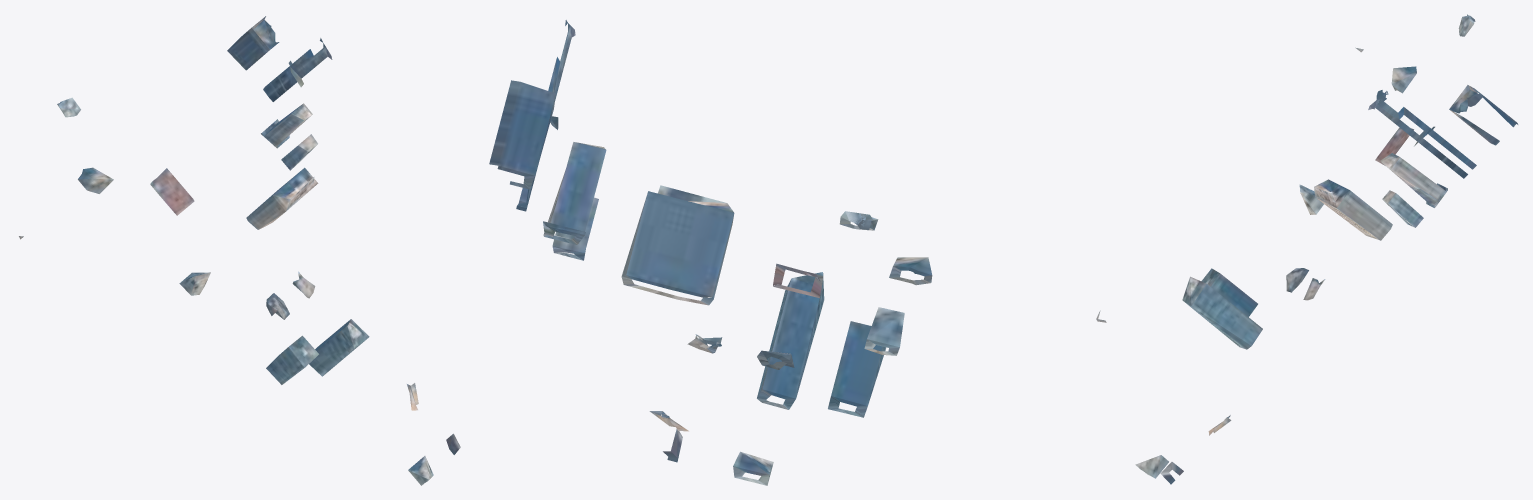
Rendered from AJVsH2wp70xItocLtffnoo7JONFyuAhEGDRWAaZ5LoftWjeKzV4BGsmtn0RvVrnL4qCvZAdOUiLXEWHgXcpwyMeXAc0TKnYIps03NwHtNL3pf9HlOdRFdzWXkdsGynKJGrY5la2fI_9XUiuYOzymajqyXtsR56nwcA.glb.
3 views of the same model, side by side, from view 1: azimuth 30°, elevation 25°; view 2: azimuth 150°, elevation 25°; view 3: azimuth 270°, elevation 25° (orthographic). The views are drawn at different scales.
Bounding box in the file's own units: 507 × 498 × 442.
Materials: 1 (1 with a texture image).
